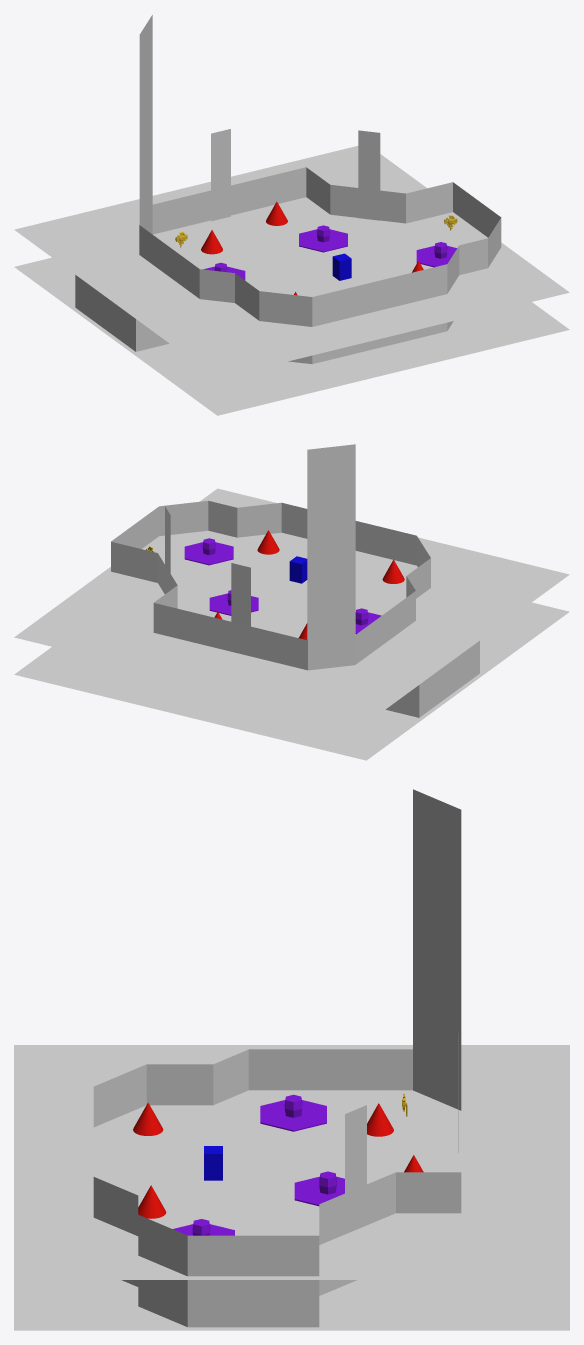
Rendered from N4-Pantano.fbx.
The picture shows the model from 3 angles, top to bottom: view 1: azimuth 30°, elevation 25°; view 2: azimuth 150°, elevation 25°; view 3: azimuth 270°, elevation 25°; orthographic projection. The views are drawn at different scales.
Visible parts, largest first — view 1: Base.005, Limite 1-4, Arbol Sequoia.002, Arbol.012, Arbol.013, Barriles en Barro.006, Barriles en Barro.005; view 2: Base.005, Limite 1-4, Arbol Sequoia.002, Arbol.013, Barriles en Barro.005, Barriles en Barro.006, Jugador.005; view 3: Base.005, Limite 1-4, Arbol Sequoia.002, Barriles en Barro.007, Arbol.012, Barriles en Barro.006.
Part boxes in pixels (bbox=[...]): Base.005: bbox=[14, 146, 569, 415]; Limite 1-4: bbox=[139, 167, 501, 326]; Arbol Sequoia.002: bbox=[139, 15, 152, 234]; Arbol.012: bbox=[358, 130, 380, 220]; Arbol.013: bbox=[211, 129, 230, 221]; Barriles en Barro.006: bbox=[299, 225, 347, 252]; Barriles en Barro.005: bbox=[416, 242, 456, 267]; Base.005: bbox=[14, 488, 569, 760]; Limite 1-4: bbox=[111, 500, 430, 670]; Arbol Sequoia.002: bbox=[307, 444, 355, 640]; Arbol.013: bbox=[231, 563, 250, 626]; Barriles en Barro.005: bbox=[184, 538, 233, 565]; Barriles en Barro.006: bbox=[209, 590, 258, 615]; Jugador.005: bbox=[289, 556, 307, 583]; Base.005: bbox=[14, 1045, 569, 1330]; Limite 1-4: bbox=[93, 1049, 461, 1276]; Arbol Sequoia.002: bbox=[413, 789, 461, 1110]; Barriles en Barro.007: bbox=[260, 1094, 326, 1131]; Arbol.012: bbox=[345, 1105, 366, 1193]; Barriles en Barro.006: bbox=[294, 1171, 344, 1206].
Size of the model in its own units: 1983 by 1502 by 1983.
